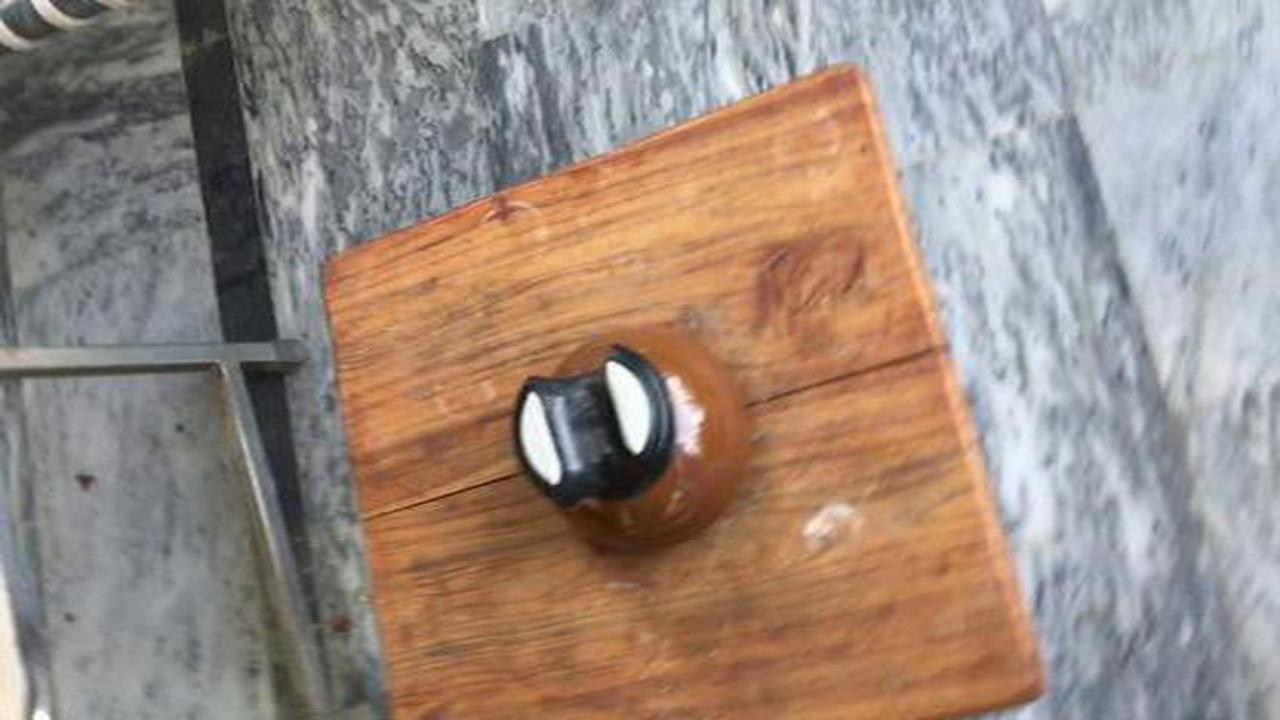insulator_pin: (487, 317, 776, 577)
